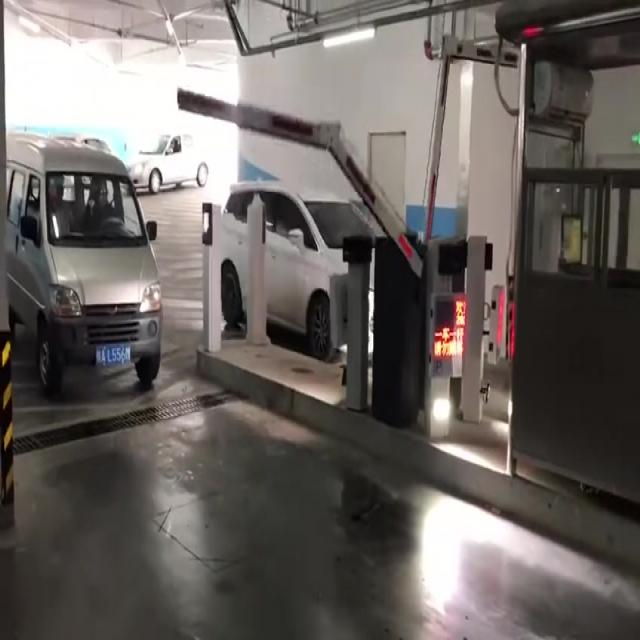CarIn: (5, 137, 161, 424)
GateOpened: (158, 87, 425, 313), (388, 36, 534, 263)
